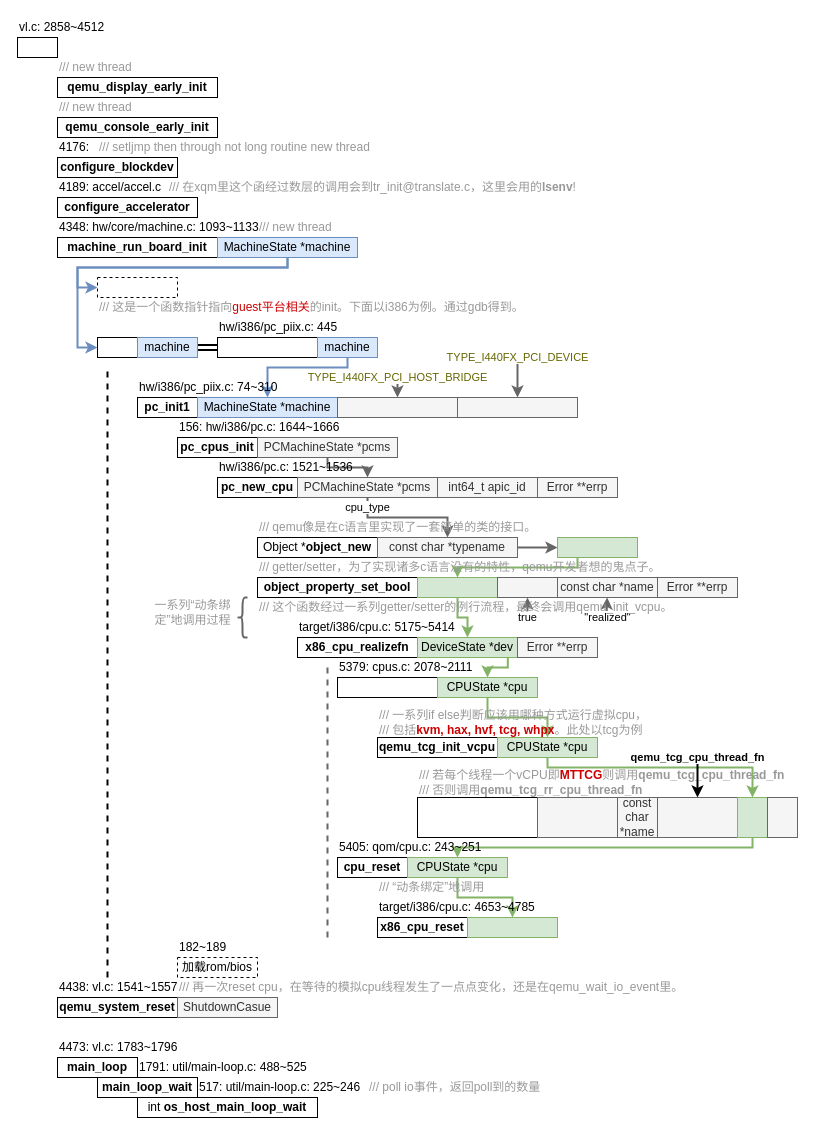
Image size: 815x1135. Some labels were removed from this diagram. The centre of each missing label's shape, as x and y in pixels:
"bool value" belongs at (x=527, y=587).
"const char *host_type" belongs at (x=397, y=407).
"const char *pci_type" belongs at (x=517, y=407).
"CPUState *s" belongs at (x=512, y=927).
"init" belongs at (x=117, y=347).
"int mode" belongs at (x=782, y=817).
"main" belongs at (x=37, y=47).
"Object *cpu" belongs at (x=597, y=547).
"Object *obj" belongs at (x=457, y=587).
"pc_init_[v4_1]" belongs at (x=267, y=347).
"qemu_init_vcpu" belongs at (x=387, y=687).
"qemu_thread_create" belongs at (x=477, y=817).
"QemuThread *thread" belongs at (x=577, y=817).
"void *(*start_routine)(void*)" belongs at (x=697, y=817).
"void *arg" belongs at (x=752, y=817).
"初始化CPUs" belongs at (x=137, y=287).
